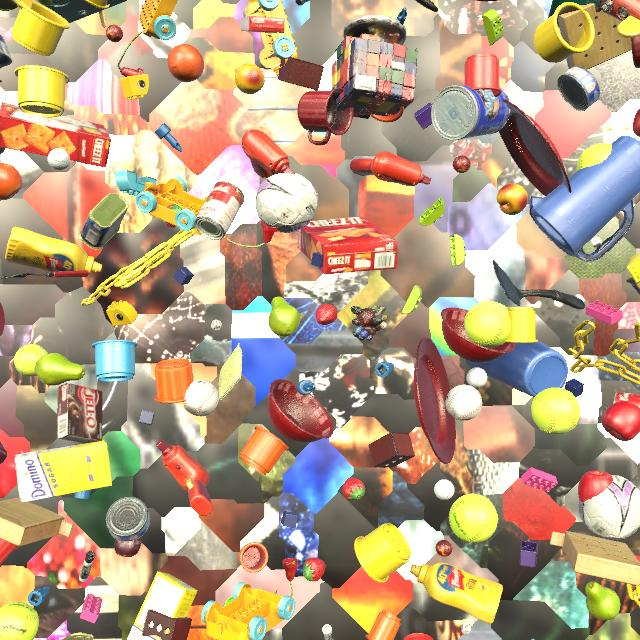ycb_002_master_chef_can: (431, 85, 510, 140)
ycb_003_cracker_box: (0, 102, 111, 168), (298, 217, 398, 274)
ycb_004_sugar_box: (14, 439, 112, 503), (127, 571, 198, 640), (627, 253, 640, 283)
ycb_005_tomato_soup_can: (194, 181, 245, 240), (613, 392, 640, 407)
ycb_006_mustard_bottle: (410, 562, 503, 624), (5, 227, 102, 275)
ycb_007_tuna_fish_can: (106, 497, 150, 541), (557, 66, 600, 111)
ycb_008_pudding_box: (57, 383, 103, 443)
ycb_009_gelatin_box: (241, 16, 285, 33)
ycb_010_potted_meat_can: (79, 193, 129, 250), (626, 276, 640, 294), (62, 633, 94, 640), (0, 0, 18, 11)
ycb_012_strawberry: (342, 478, 365, 501), (303, 557, 325, 581), (316, 304, 338, 325), (166, 204, 183, 228), (634, 554, 640, 562)
ycb_013_apple: (601, 400, 640, 441), (578, 470, 613, 502), (633, 108, 640, 137)
ycb_015_peach: (497, 183, 528, 215), (235, 63, 265, 94)
ycb_016_pear: (35, 353, 85, 386), (585, 581, 620, 621), (269, 296, 300, 337), (38, 0, 52, 6)
ycb_017_orange: (167, 44, 204, 82), (0, 163, 22, 200)
ycb_018_plum: (114, 537, 141, 557), (0, 442, 7, 464)
